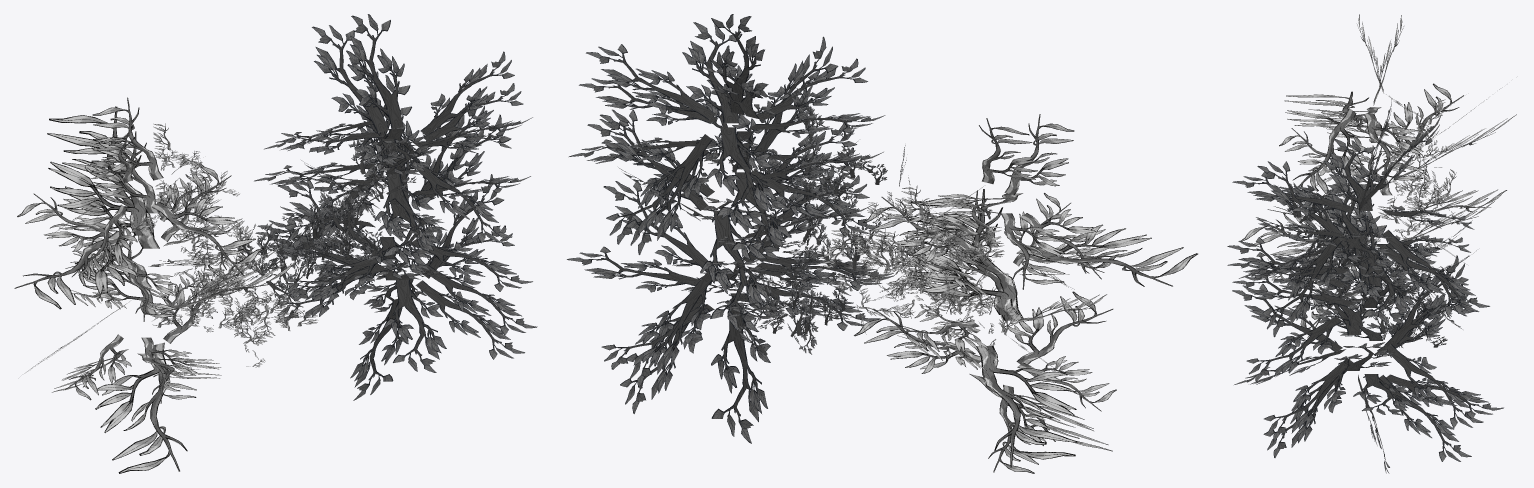
File: ramas.glb
The picture shows the model from 3 angles, left to right: view 1: azimuth 30°, elevation 25°; view 2: azimuth 150°, elevation 25°; view 3: azimuth 270°, elevation 25°; orthographic projection. The views are drawn at different scales.
Parts seen in each view (by area): view 1: ramas; view 2: ramas; view 3: ramas.
Boxes of the visible parts, x1,y1,x2,y2 form: ramas: (14,14,537,473); ramas: (567,14,1197,473); ramas: (1227,14,1516,473).
Size of the model in its own units: 48.47 by 34.41 by 24.58.
2 materials, 2 textured.
